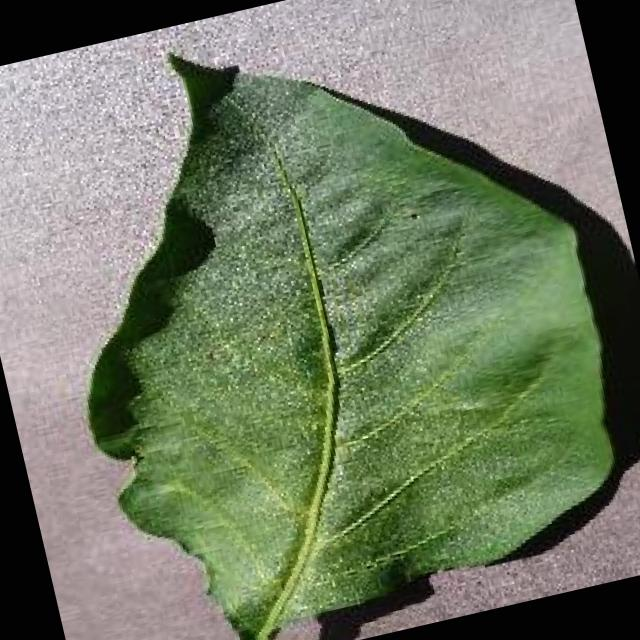Leaf: (130, 18, 640, 569)
